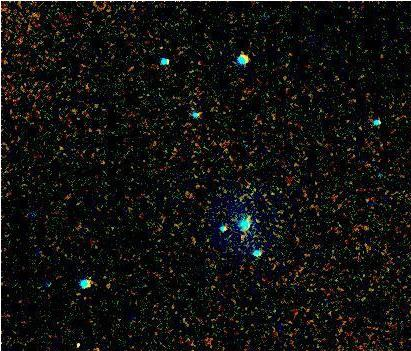star: (59, 332, 89, 351)
